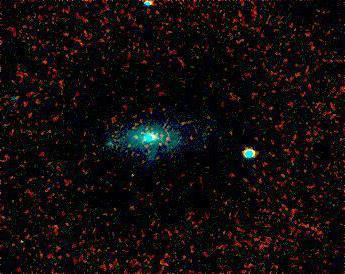star: (118, 119, 148, 149)
